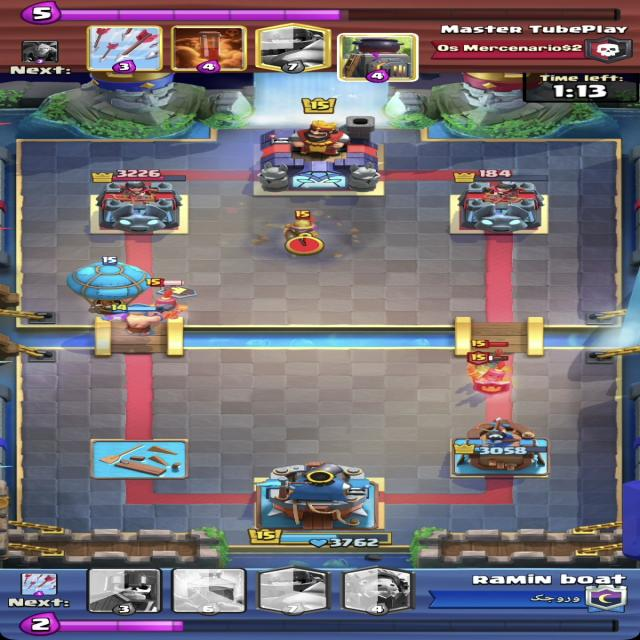Enemy-Guard: (465, 350, 513, 395), (143, 277, 188, 323), (470, 339, 510, 379)
Enemy-Musketeer: (283, 210, 321, 250)
Player-Balloon: (66, 256, 153, 316)
Player-Lumberjack: (108, 302, 177, 338)
